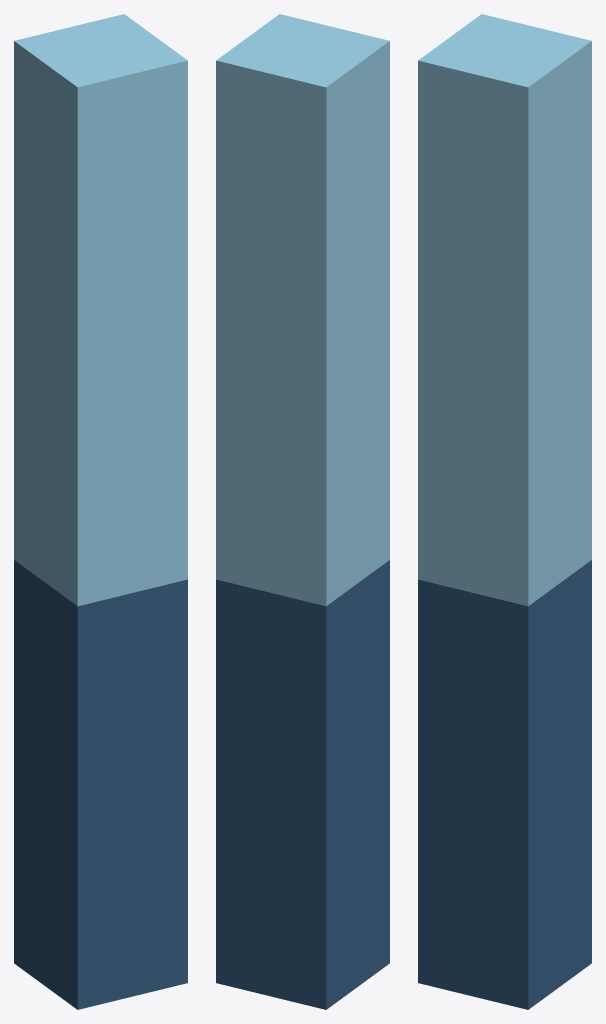
Rendered from NF_Wall_A.fbx.
The picture shows the model from 3 angles, left to right: view 1: azimuth 30°, elevation 25°; view 2: azimuth 150°, elevation 25°; view 3: azimuth 330°, elevation 25°; orthographic projection.
Parts seen in each view (by area): view 1: NF_Wall_A; view 2: NF_Wall_A; view 3: NF_Wall_A.
Boxes of the visible parts, x1,y1,x2,y2 form: NF_Wall_A: [14, 14, 187, 1009]; NF_Wall_A: [216, 14, 389, 1009]; NF_Wall_A: [418, 14, 591, 1009].
Size of the model in its own units: 0.5 by 4 by 0.5.
1 material, 1 textured.
